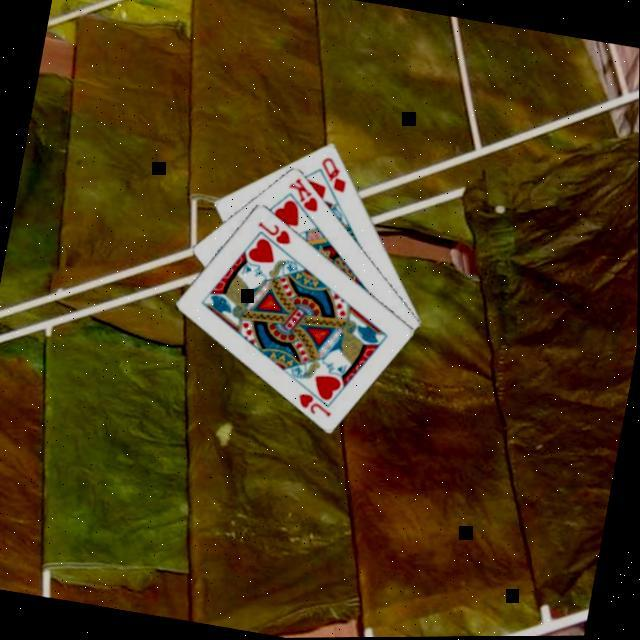JH: (251, 216, 295, 247), (293, 387, 337, 418)
KH: (280, 170, 324, 213)
QD: (313, 150, 351, 194)
